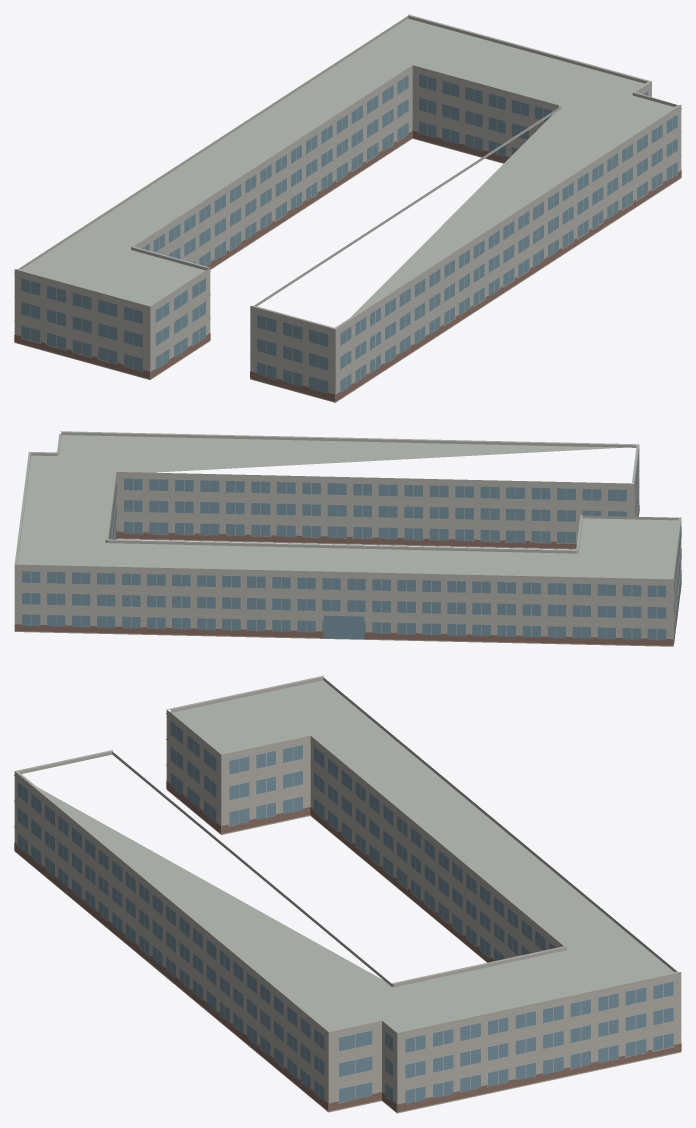
File: public-9f0f5476-95c5-4421-b6e1-15f0c7fb7af6.glb
3 views of the same model, one above another, from view 1: azimuth 30°, elevation 25°; view 2: azimuth 150°, elevation 25°; view 3: azimuth 270°, elevation 25° (orthographic). The views are drawn at different scales.
Parts seen in each view (by area): view 1: public-9f0f5476-95c5-4421-b6e1-15f0c7fb7af6; view 2: public-9f0f5476-95c5-4421-b6e1-15f0c7fb7af6; view 3: public-9f0f5476-95c5-4421-b6e1-15f0c7fb7af6.
Boxes of the visible parts, x1,y1,x2,y2 form: public-9f0f5476-95c5-4421-b6e1-15f0c7fb7af6: [14, 14, 681, 402]; public-9f0f5476-95c5-4421-b6e1-15f0c7fb7af6: [14, 431, 681, 646]; public-9f0f5476-95c5-4421-b6e1-15f0c7fb7af6: [14, 675, 681, 1113].
Bounding box in the file's own units: 87.42 × 9.15 × 68.9.
